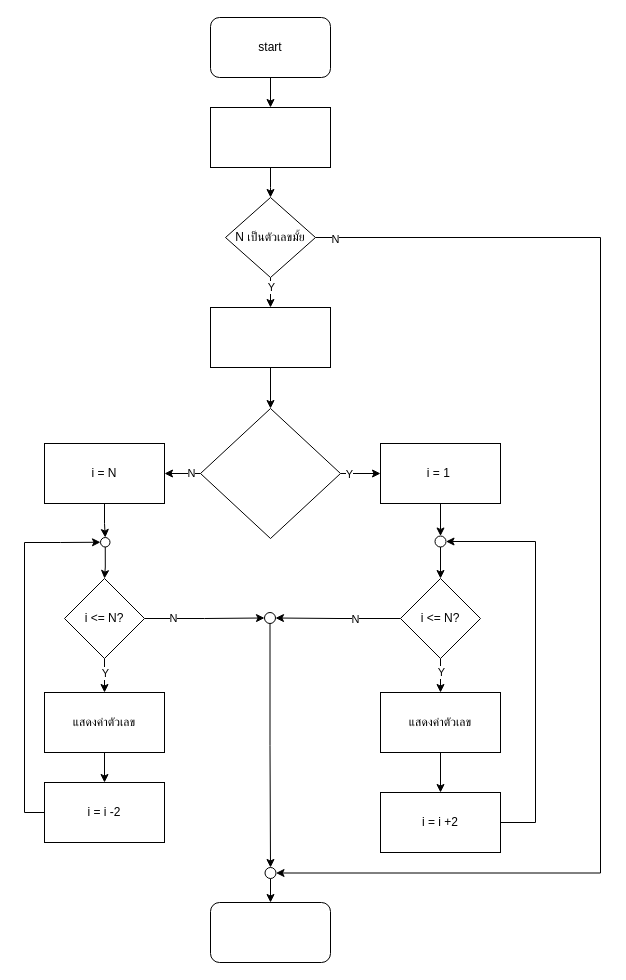
Image size: 626x980. Some labels were removed from this diagram. The centre of each missing label's shape, as x and y in pixels:
"End" belongs at point (270, 932).
"int N = 0" belongs at point (270, 137).
"ถ้าหาร2แล้วมีเศษ" belongs at point (270, 473).
"รับค่าตัวเลข เก็บไว้ที่ N" belongs at point (270, 337).
